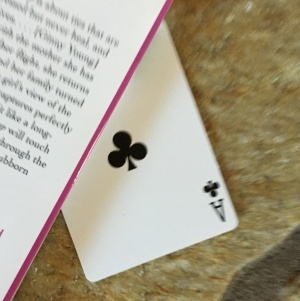card: (60, 18, 239, 283)
